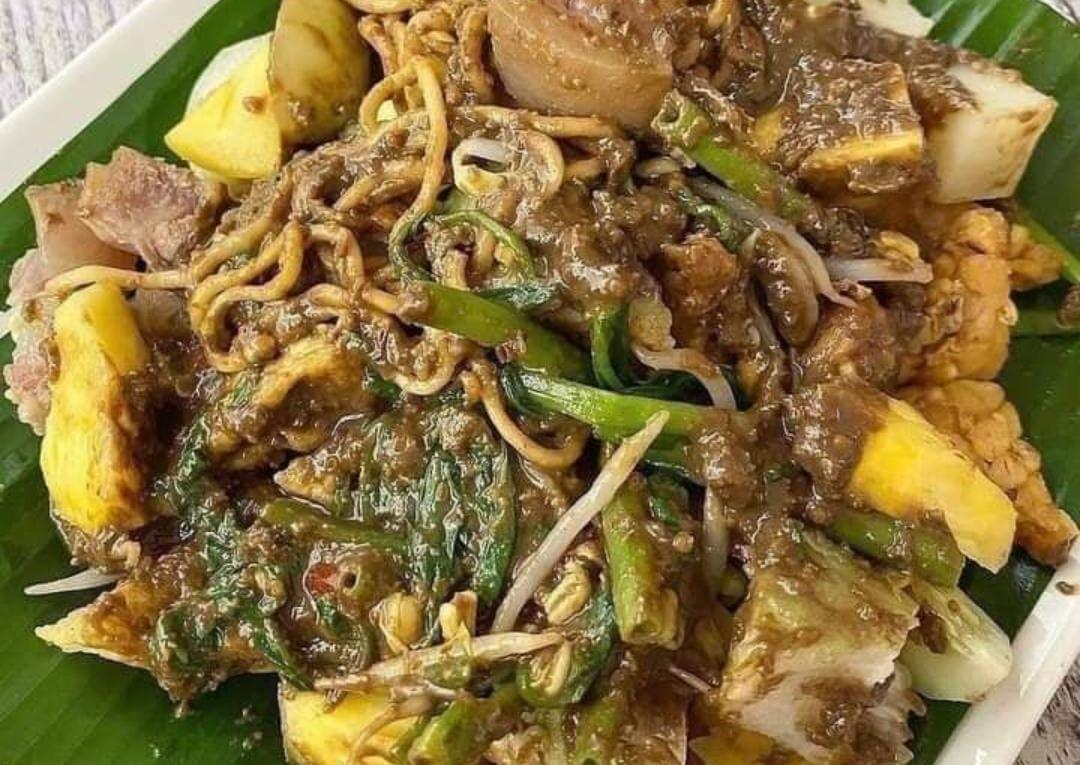rujak_cingur: (6, 2, 1080, 765)
